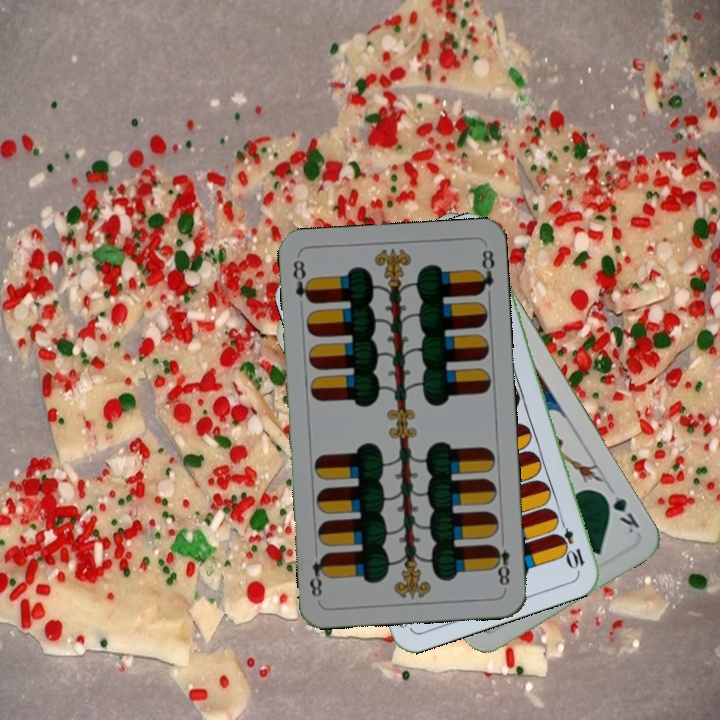E10: (554, 513, 587, 571)
E8: (488, 532, 512, 589), (288, 256, 315, 305)
GK: (598, 488, 643, 536)
